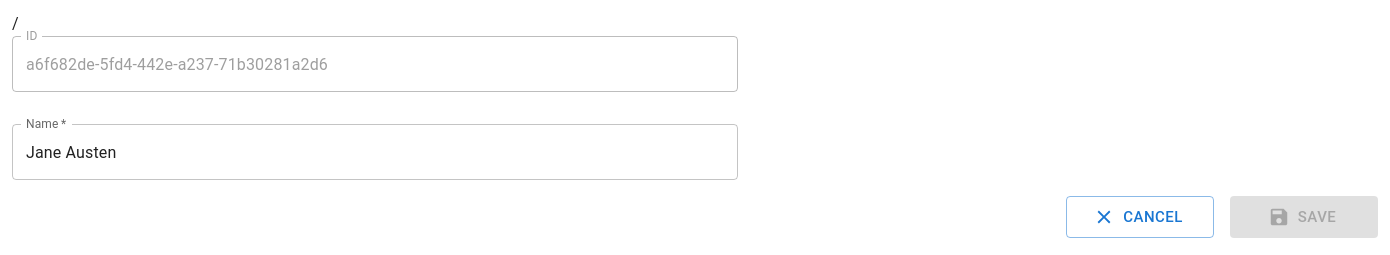
Test case: AuthorForm › submits via PATCH and redirects to authors page in edit mode
The image size is (1390, 255).
Replace the text in the field showing "Jane Austen" with "Jane Austen Updated": (375, 152) [12, 124, 738, 180]
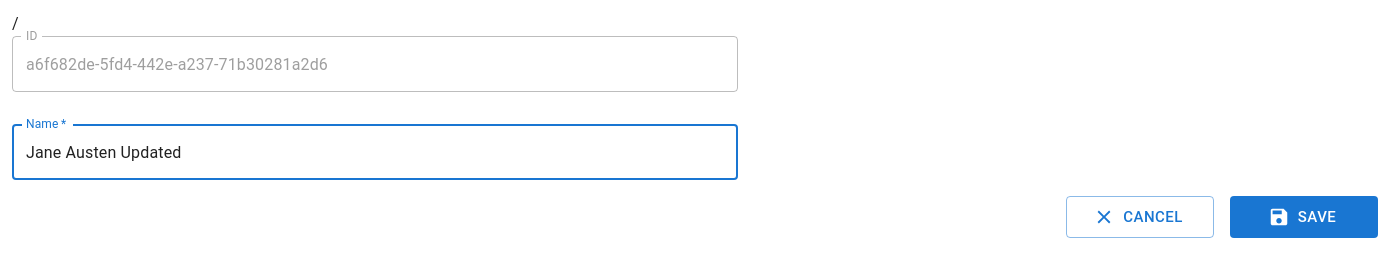
Click the button "Save": click(1304, 217) [1230, 196, 1378, 238]
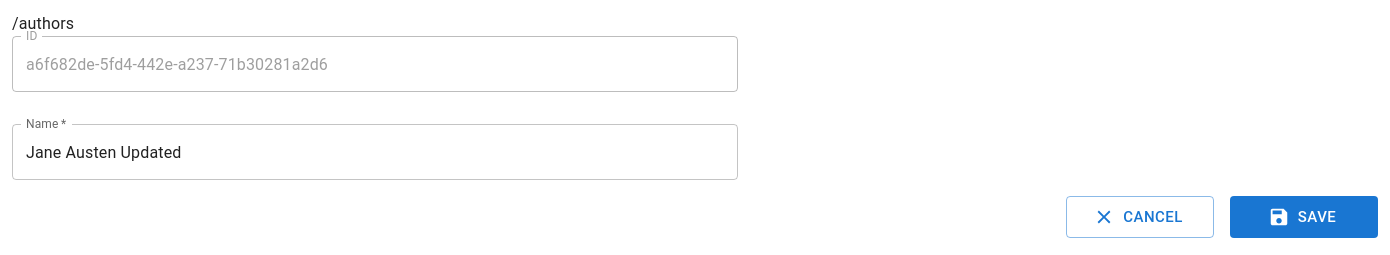
Expected: the text with test id "location" reads "/authors", [12, 14, 74, 33]
